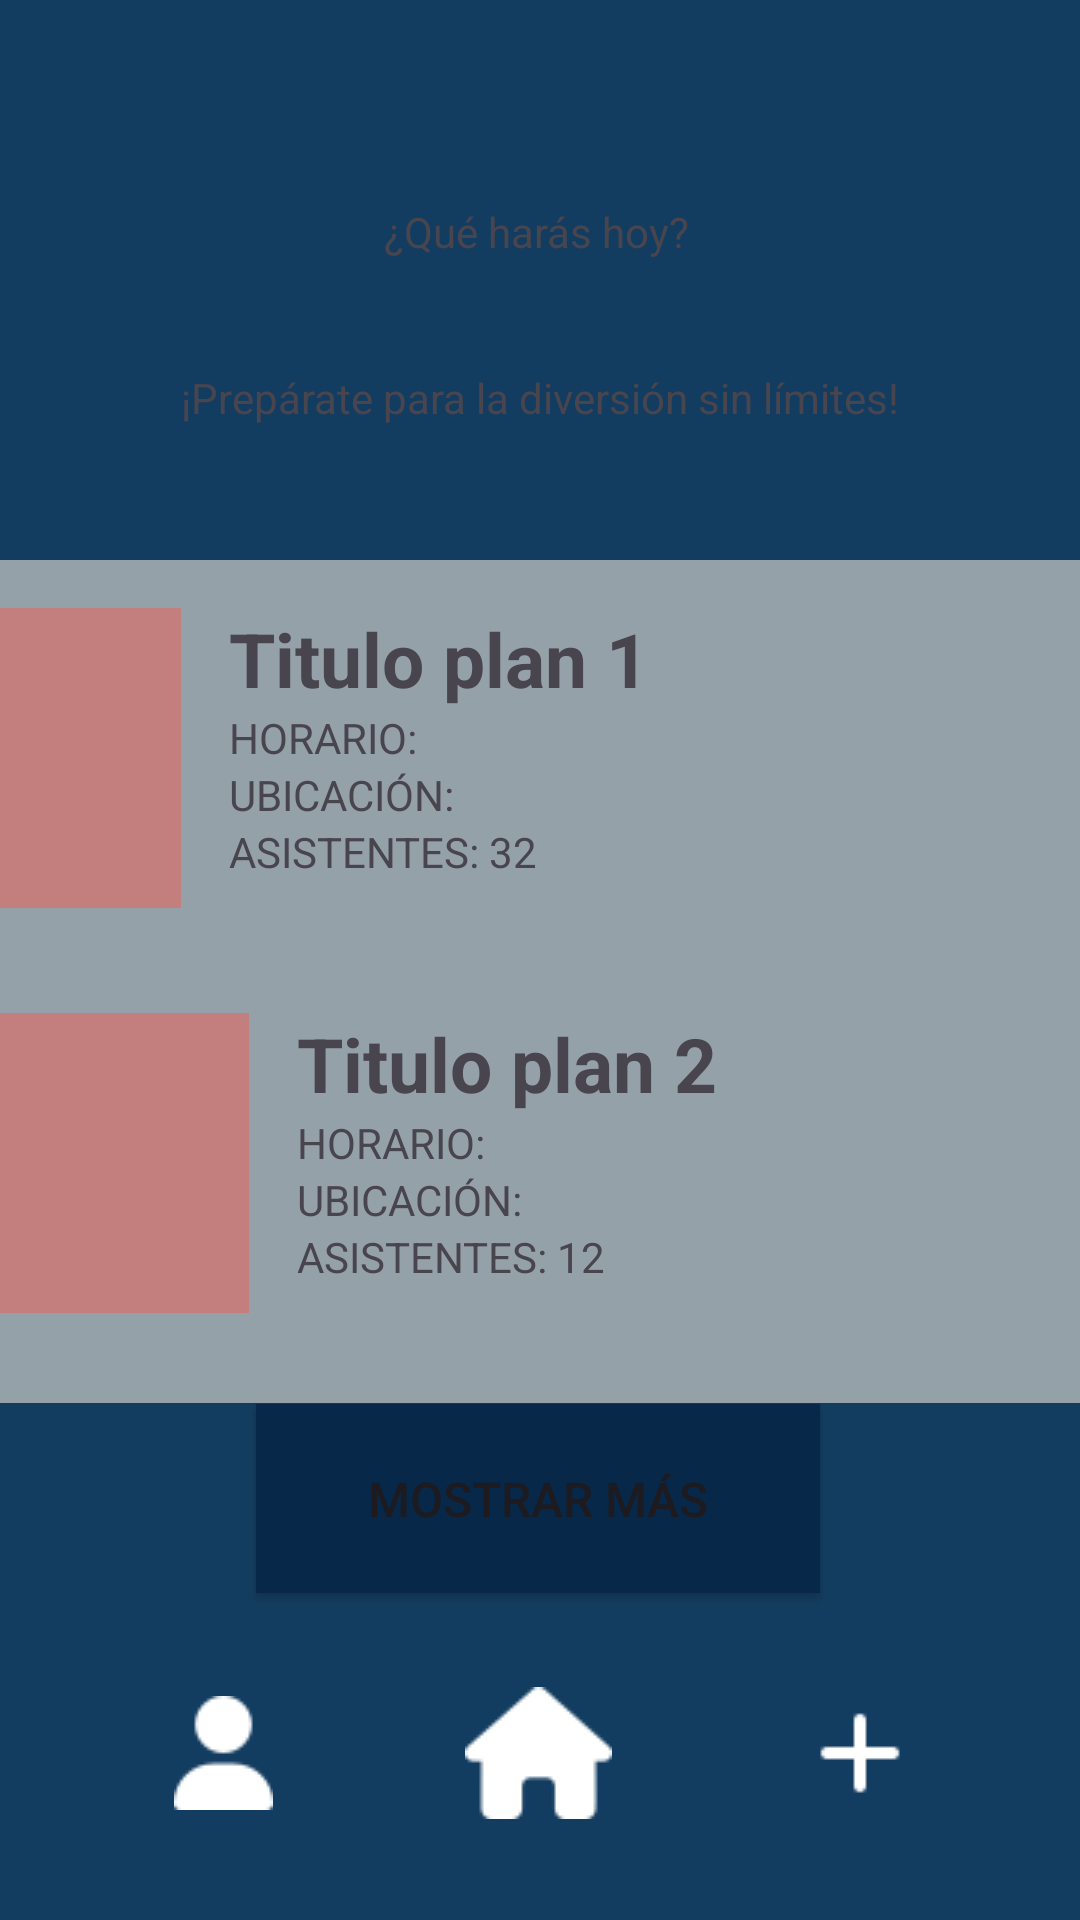

Icon click points for this 1080*1920 phone screenshot, format (x,y):
casarelleno: (538,1753)
mas: (860,1753)
usuario: (223,1753)
